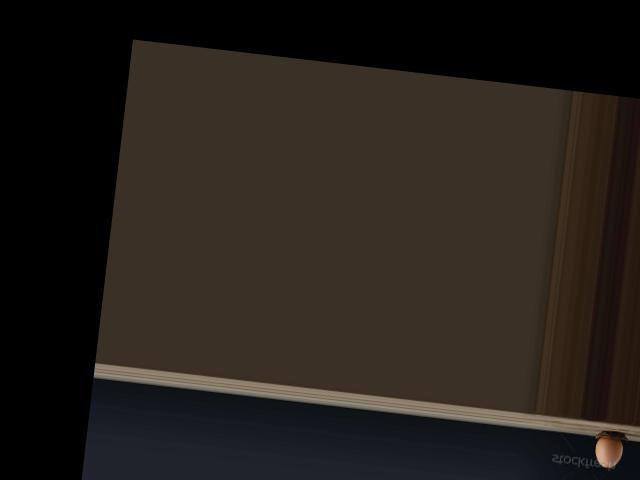egg: (594, 436, 624, 468)
